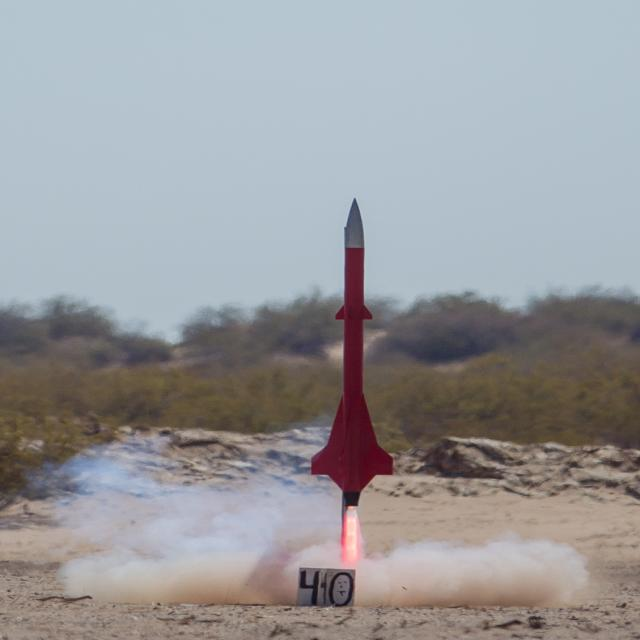Rocket: (312, 197, 396, 510)
